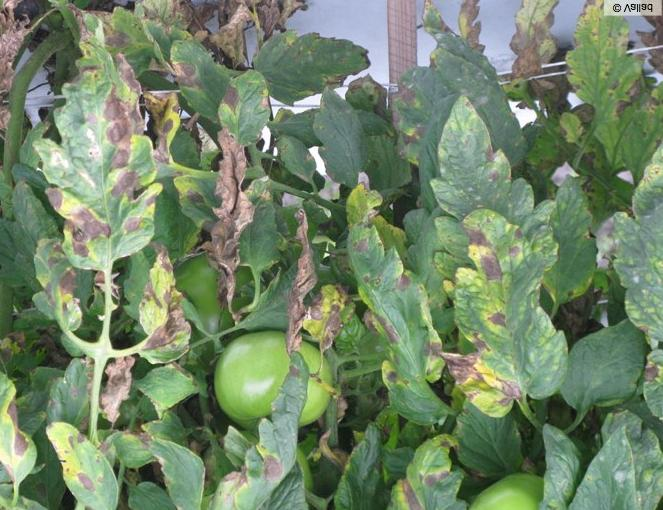Tomato Early blight leaf: (447, 194, 564, 424), (54, 34, 164, 267), (362, 174, 441, 442), (207, 358, 314, 510), (615, 134, 663, 352), (120, 262, 202, 362), (369, 435, 468, 510), (60, 408, 121, 510), (35, 214, 85, 335), (216, 65, 276, 142), (0, 376, 39, 479)
